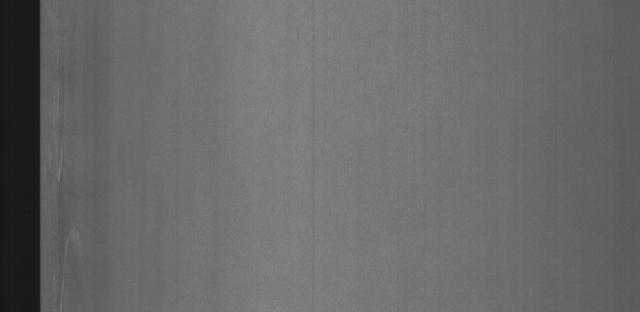silk_spot: (44, 109, 79, 309)
